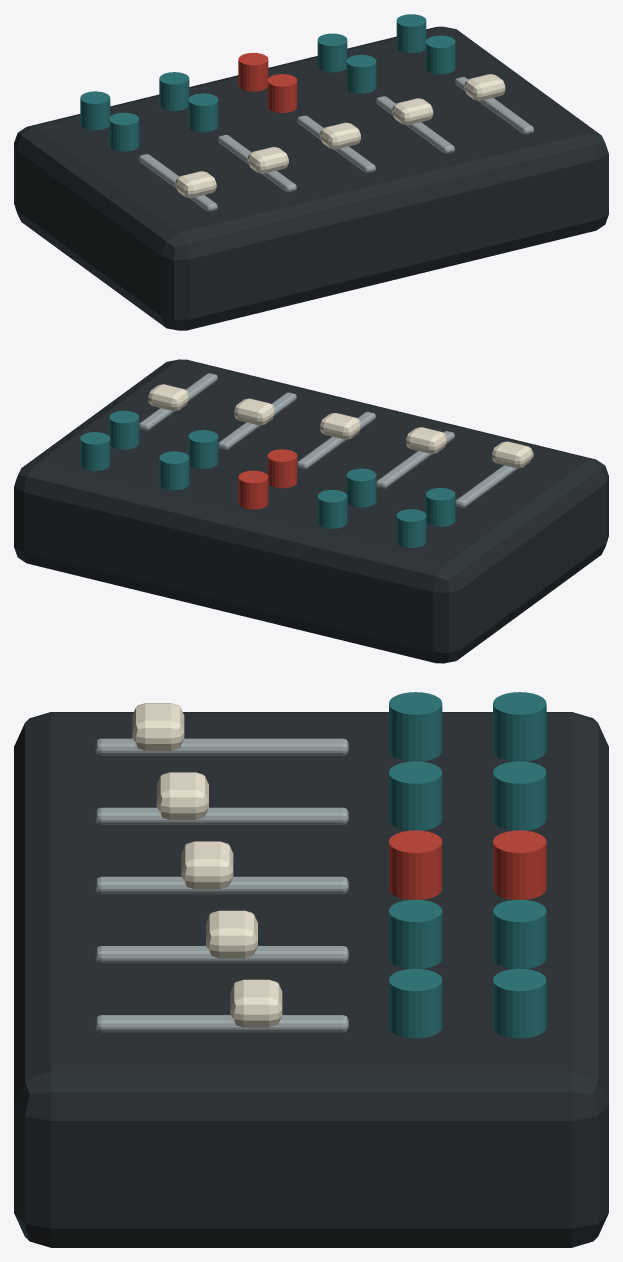
The model's file is audio_mixer.glb.
3 renders of one model, top to bottom at view 1: azimuth 30°, elevation 25°; view 2: azimuth 150°, elevation 25°; view 3: azimuth 270°, elevation 25°, orthographic. The views are drawn at different scales.
Parts seen in each view (by area): view 1: audio_mixer; view 2: audio_mixer; view 3: audio_mixer.
Boxes of the visible parts, bbox=[...] form: audio_mixer: bbox=[14, 14, 608, 330]; audio_mixer: bbox=[14, 359, 608, 663]; audio_mixer: bbox=[14, 692, 608, 1247].
Bounding box in the file's own units: 0.62 × 0.1675 × 0.4.
